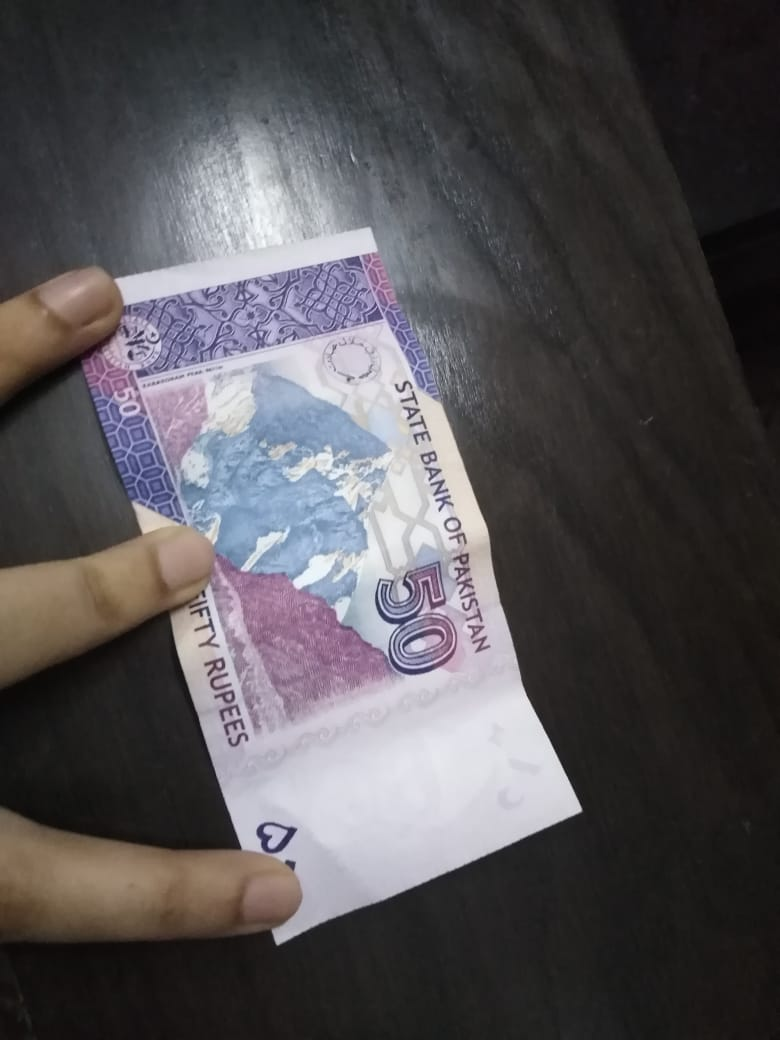50 rupee: (74, 221, 560, 967)
